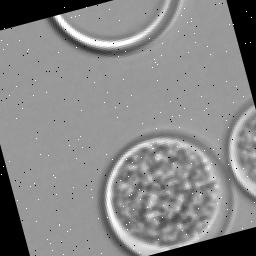picoshell: (101, 133, 233, 256), (49, 0, 183, 55), (227, 105, 256, 202)
